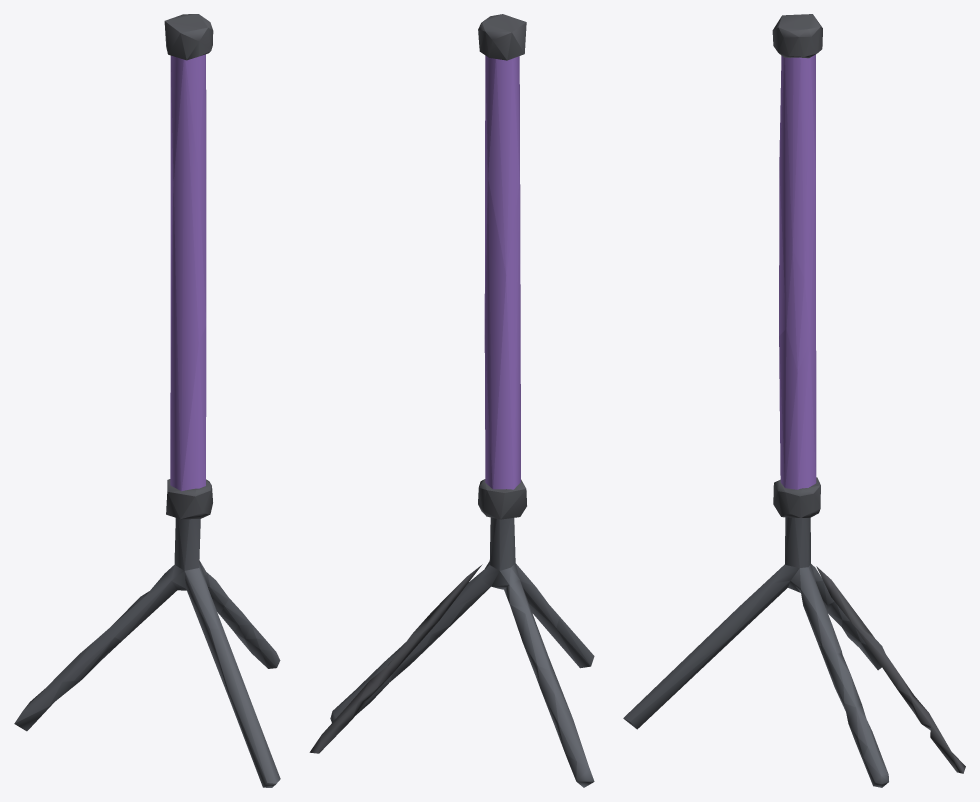
File: neon_pied_v.glb
The picture shows the model from 3 angles, left to right: view 1: azimuth 30°, elevation 25°; view 2: azimuth 150°, elevation 25°; view 3: azimuth 270°, elevation 25°; orthographic projection.
Parts seen in each view (by area): view 1: neon_pied_v_glow, neon_pied_v; view 2: neon_pied_v, neon_pied_v_glow; view 3: neon_pied_v, neon_pied_v_glow.
Part boxes in pixels (box(x1,y1,x2,y2)): neon_pied_v_glow: box(170, 54, 206, 491); neon_pied_v: box(14, 14, 280, 787); neon_pied_v: box(309, 14, 594, 787); neon_pied_v_glow: box(484, 55, 520, 489); neon_pied_v: box(623, 14, 965, 787); neon_pied_v_glow: box(779, 54, 816, 489).
Bounding box in the file's own units: 0.3725 × 0.9548 × 0.4189.
